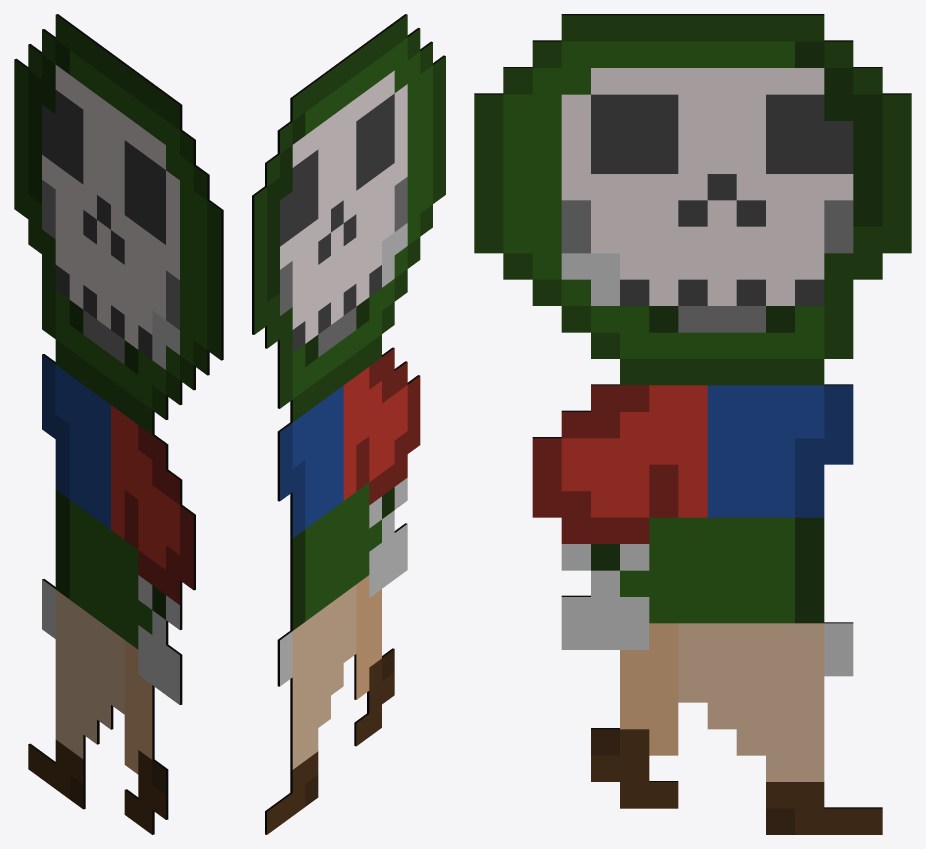
The model's file is Enemy2WC8.fbx.
The picture shows the model from 3 angles, left to right: view 1: azimuth 30°, elevation 25°; view 2: azimuth 150°, elevation 25°; view 3: azimuth 270°, elevation 25°; orthographic projection. The views are drawn at different scales.
Parts seen in each view (by area): view 1: Cube; view 2: Cube; view 3: Cube.
Boxes of the visible parts, box(x1,y1,x2,y2) form: Cube: box(14, 14, 223, 834); Cube: box(252, 14, 445, 834); Cube: box(474, 14, 911, 834).
Bounding box in the file's own units: 20 × 6200 × 3000.
